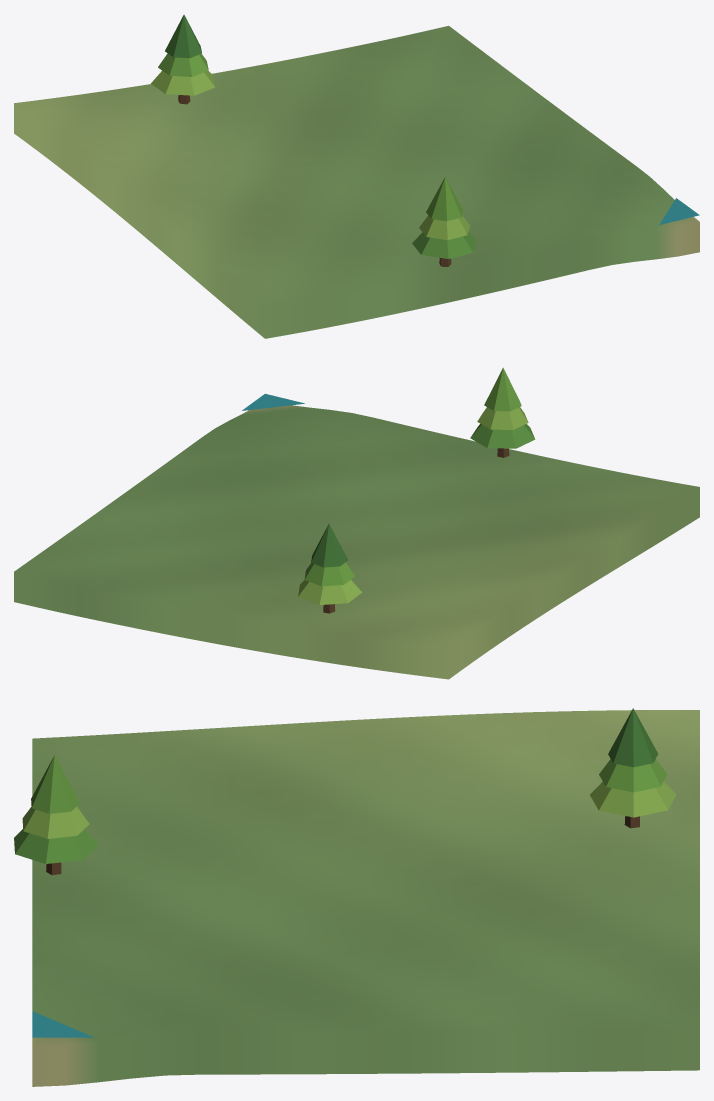
The picture shows the model from 3 angles, top to bottom: view 1: azimuth 30°, elevation 25°; view 2: azimuth 150°, elevation 25°; view 3: azimuth 270°, elevation 25°; orthographic projection. The views are drawn at different scales.
Parts seen in each view (by area): view 1: terrain, scenery; view 2: terrain, scenery; view 3: terrain, scenery.
Boxes of the visible parts, x1,y1,x2,y2 form: terrain: [14, 25, 699, 338]; scenery: [151, 14, 699, 266]; terrain: [14, 405, 699, 679]; scenery: [242, 367, 535, 613]; terrain: [32, 710, 699, 1086]; scenery: [14, 708, 676, 1037].
Bounding box in the file's own units: 30 × 9.46 × 30.82.
